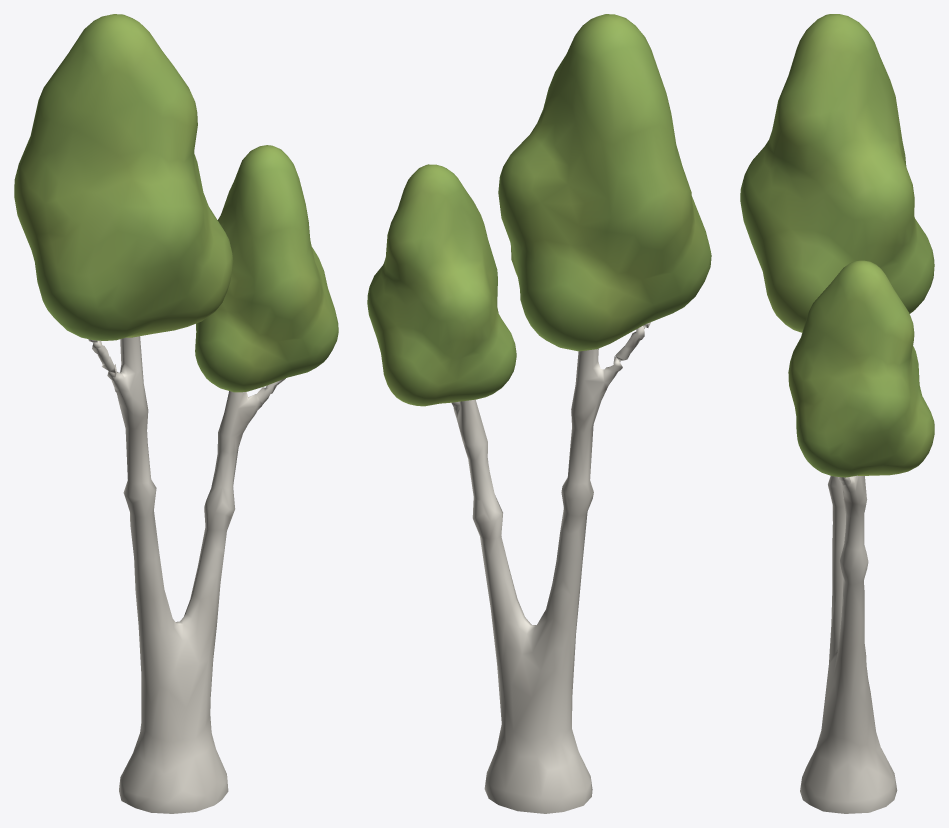
Rendered from birch1.glb.
3 renders of one model, left to right at view 1: azimuth 30°, elevation 25°; view 2: azimuth 150°, elevation 25°; view 3: azimuth 270°, elevation 25°, orthographic. The views are drawn at different scales.
Visible parts, largest first — view 1: birch_crown.0, body, birch_crown.1; view 2: birch_crown.0, body, birch_crown.1; view 3: birch_crown.0, birch_crown.1, body.
Part boxes in pixels (left/top/right/bottom): birch_crown.0: left=14, top=14, right=233, bottom=340; body: left=88, top=336, right=285, bottom=813; birch_crown.1: left=195, top=145, right=338, bottom=392; birch_crown.0: left=498, top=14, right=711, bottom=351; body: left=451, top=322, right=650, bottom=813; birch_crown.1: left=367, top=164, right=516, bottom=406; birch_crown.0: left=740, top=14, right=934, bottom=332; birch_crown.1: left=788, top=260, right=934, bottom=477; body: left=800, top=475, right=897, bottom=813.
Size of the model in its own units: 3.08 by 7.67 by 1.81.
